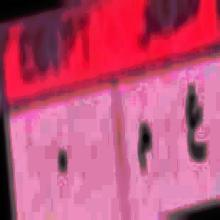0: (54, 140, 72, 186)
ghayn: (180, 78, 212, 172)
meem: (136, 108, 154, 186)
